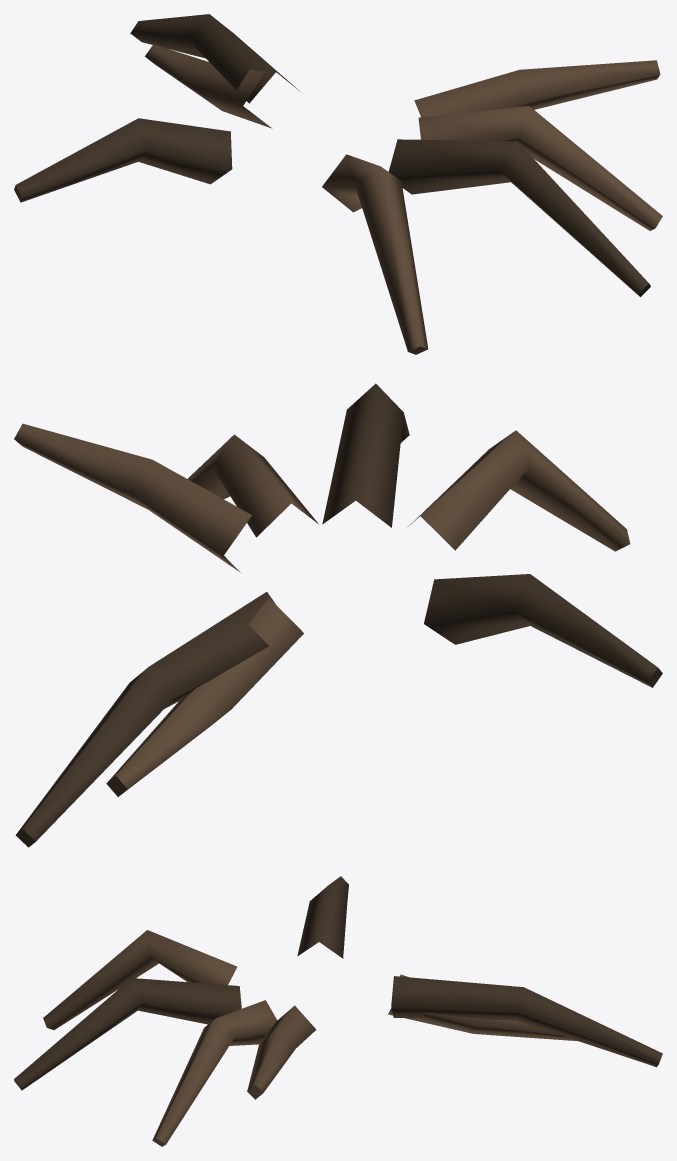
File: land-forest-30.glb
3 renders of one model, top to bottom at view 1: azimuth 30°, elevation 25°; view 2: azimuth 150°, elevation 25°; view 3: azimuth 270°, elevation 25°, orthographic. The views are drawn at different scales.
Parts seen in each view (by area): view 1: land.forest.30; view 2: land.forest.30; view 3: land.forest.30.
Boxes of the visible parts, bbox=[...] form: land.forest.30: bbox=[14, 14, 662, 354]; land.forest.30: bbox=[14, 383, 662, 847]; land.forest.30: bbox=[14, 876, 662, 1146].
Size of the model in its own units: 1.8 by 0.4121 by 2.19.
